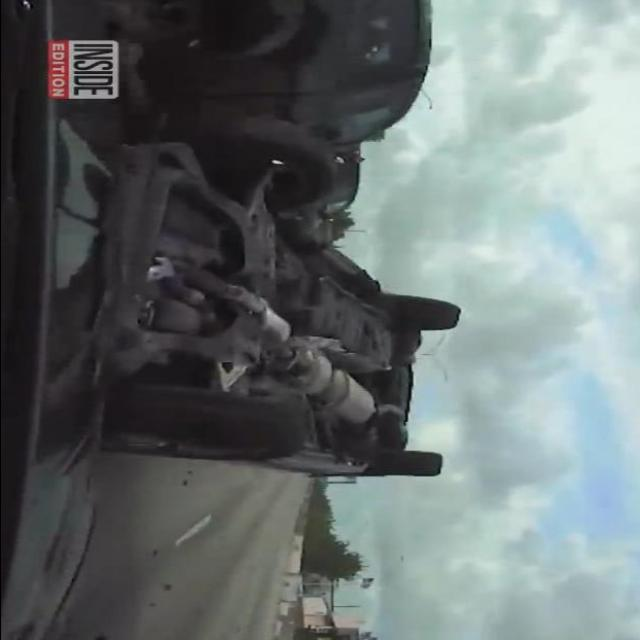accident: (101, 148, 475, 480)
